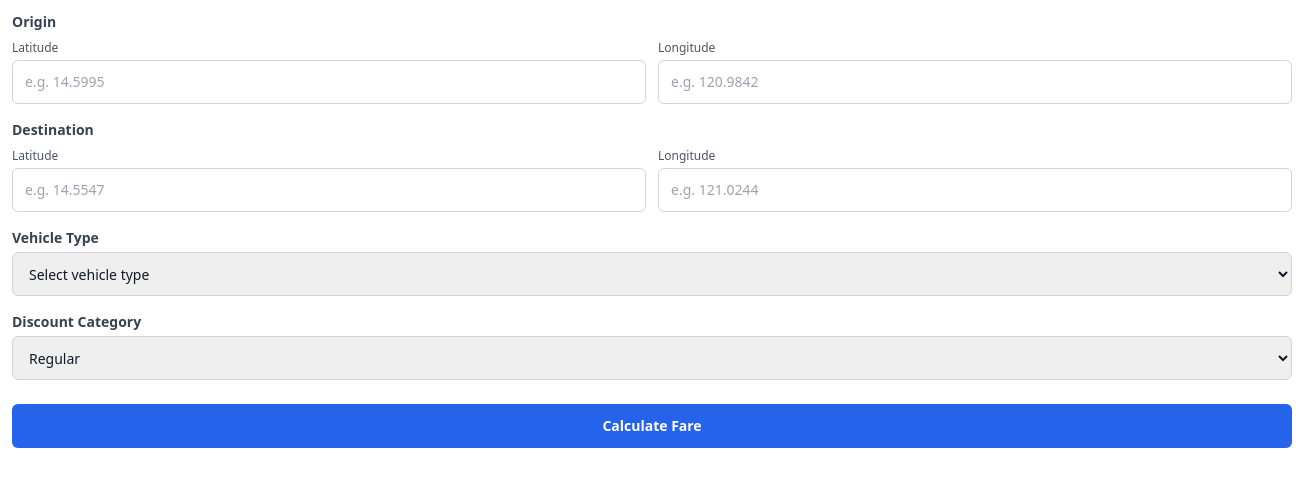
CalculateFareForm › error path: shows validation error when vehicle type is not selected
The image size is (1304, 489).
Note: Fill in valid coordinates but leave vehicle type empty
In the number field labelled "Latitude" below "Origin": (329,82) [12,60,646,104], type "14.5995"
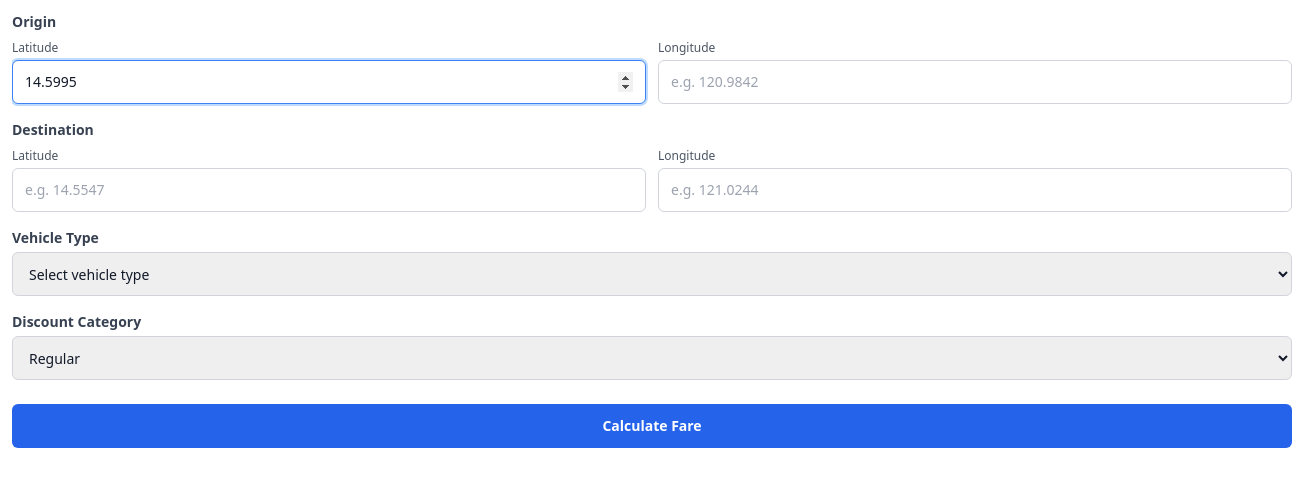
In the 1st number field labelled "Longitude": (975,82) [658,60,1292,104], type "120.9842"
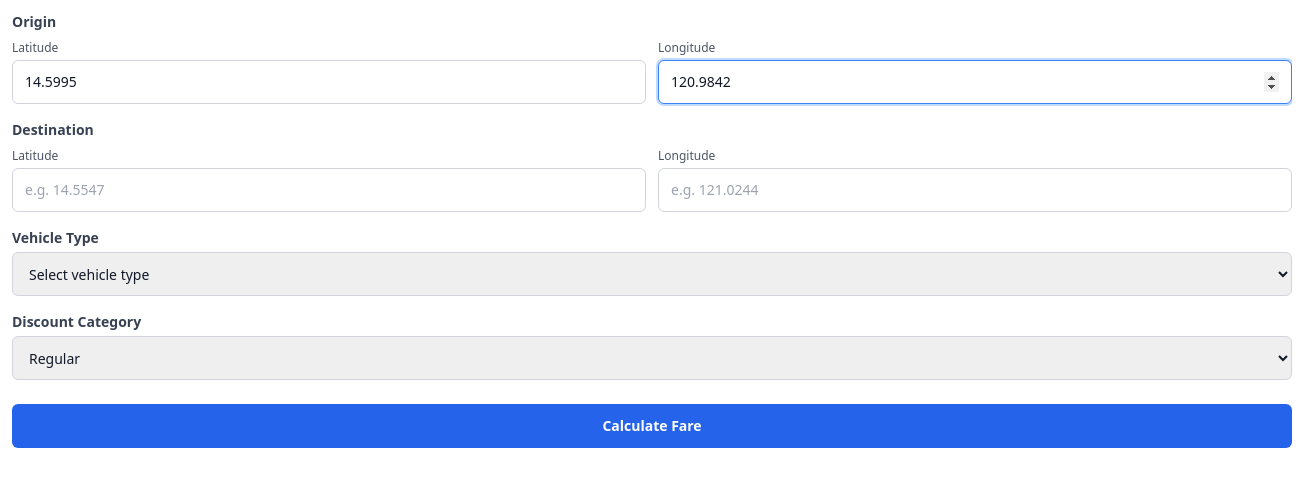
In the number field labelled "Latitude" below "Destination": (329,190) [12,168,646,212], type "14.5547"
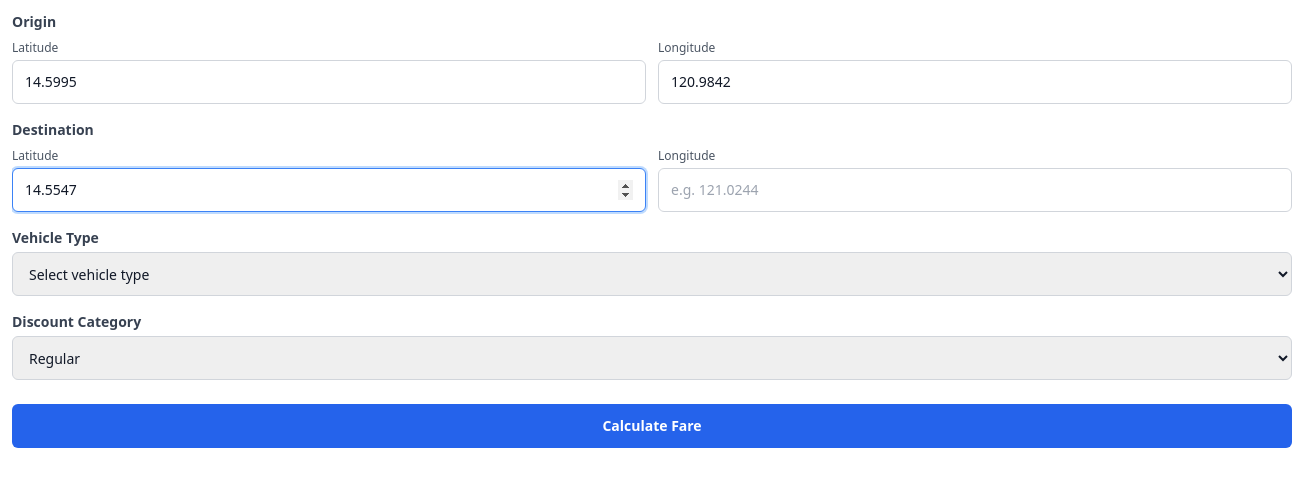
In the 2nd number field labelled "Longitude": (975,190) [658,168,1292,212], type "121.0244"
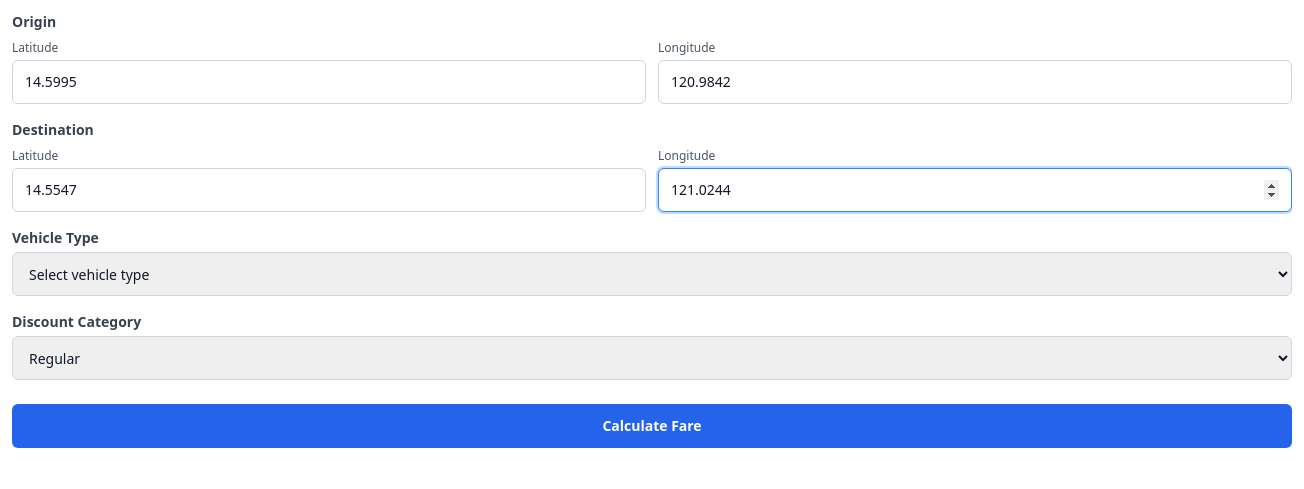
Note: Submit without selecting vehicle type
Click the button "Calculate Fare": (652,426) [12,404,1292,448]
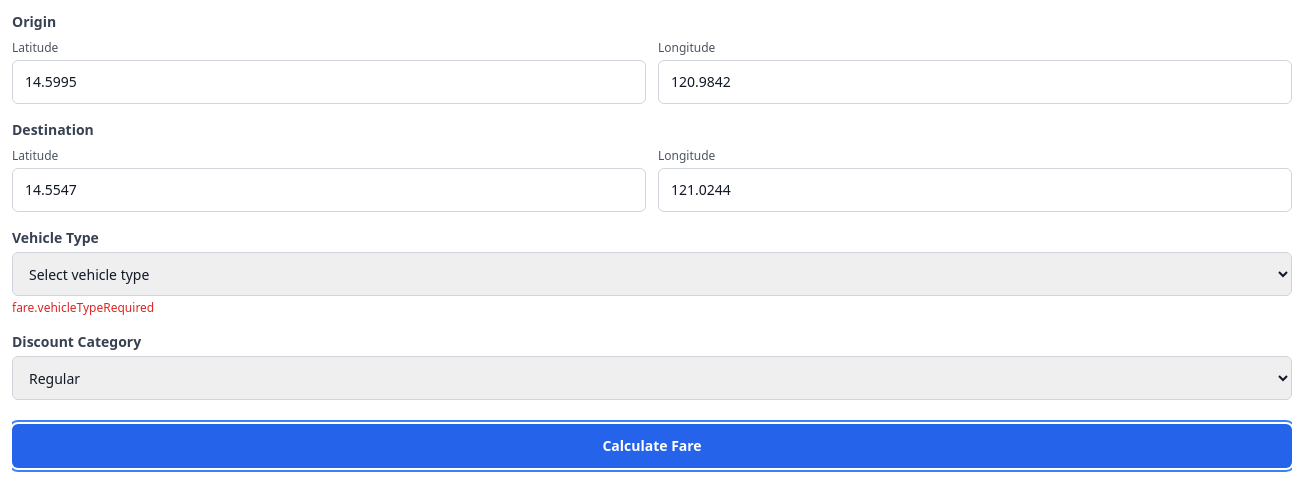
Check: the message "fare.vehicleTypeRequired" is shown, box [12,299,154,316]
